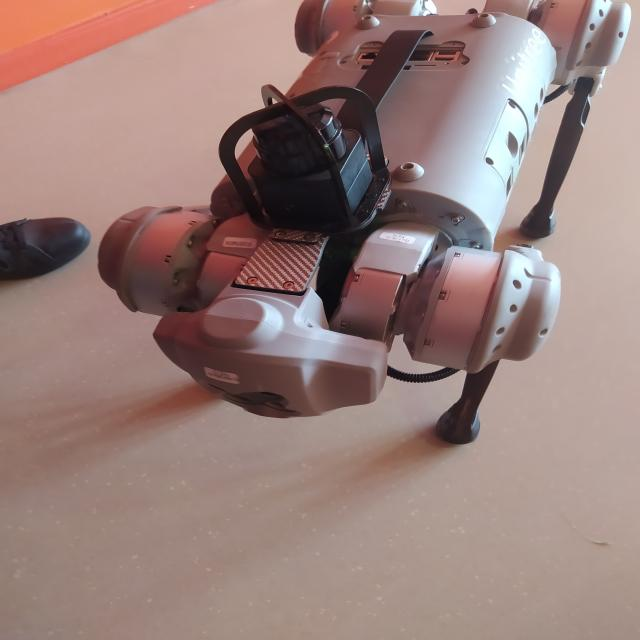unitree-go1-robot: (30, 0, 640, 468)
